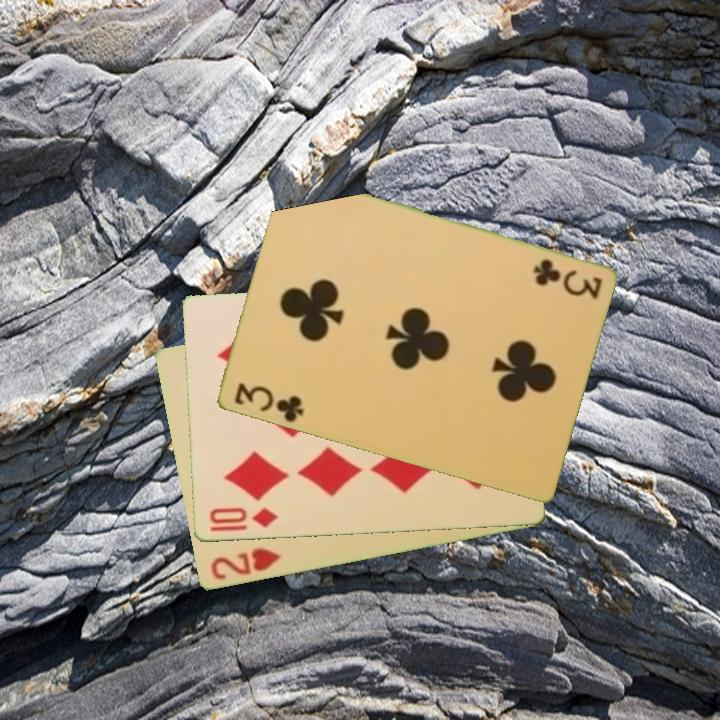10d: (205, 504, 281, 531)
2h: (207, 544, 284, 584)
3c: (230, 379, 306, 426), (529, 255, 605, 301)
